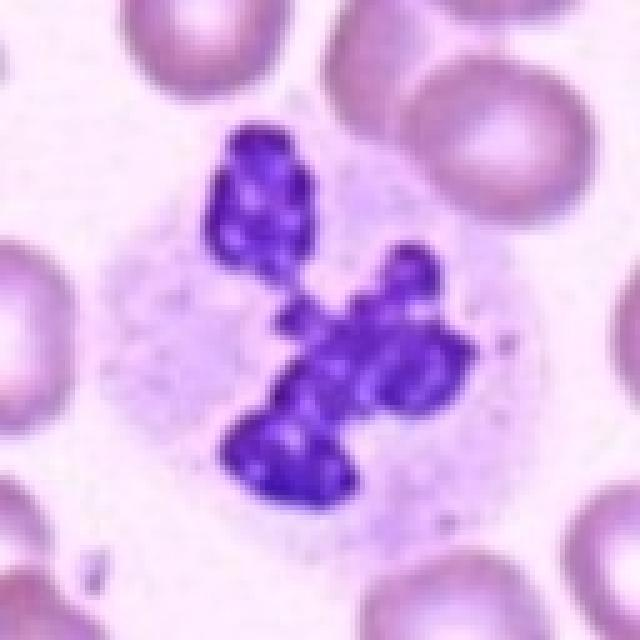neutro: (73, 69, 586, 516)
